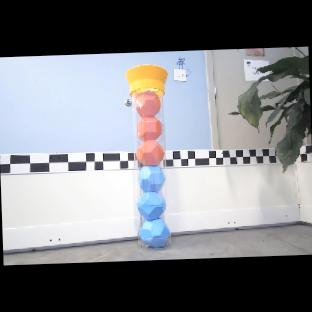Loader: (126, 64, 173, 248)
V5_BLUE: (139, 217, 171, 247), (137, 190, 167, 217), (137, 164, 164, 190)
V5_RED: (134, 113, 162, 139), (137, 139, 164, 165), (134, 88, 161, 114)
